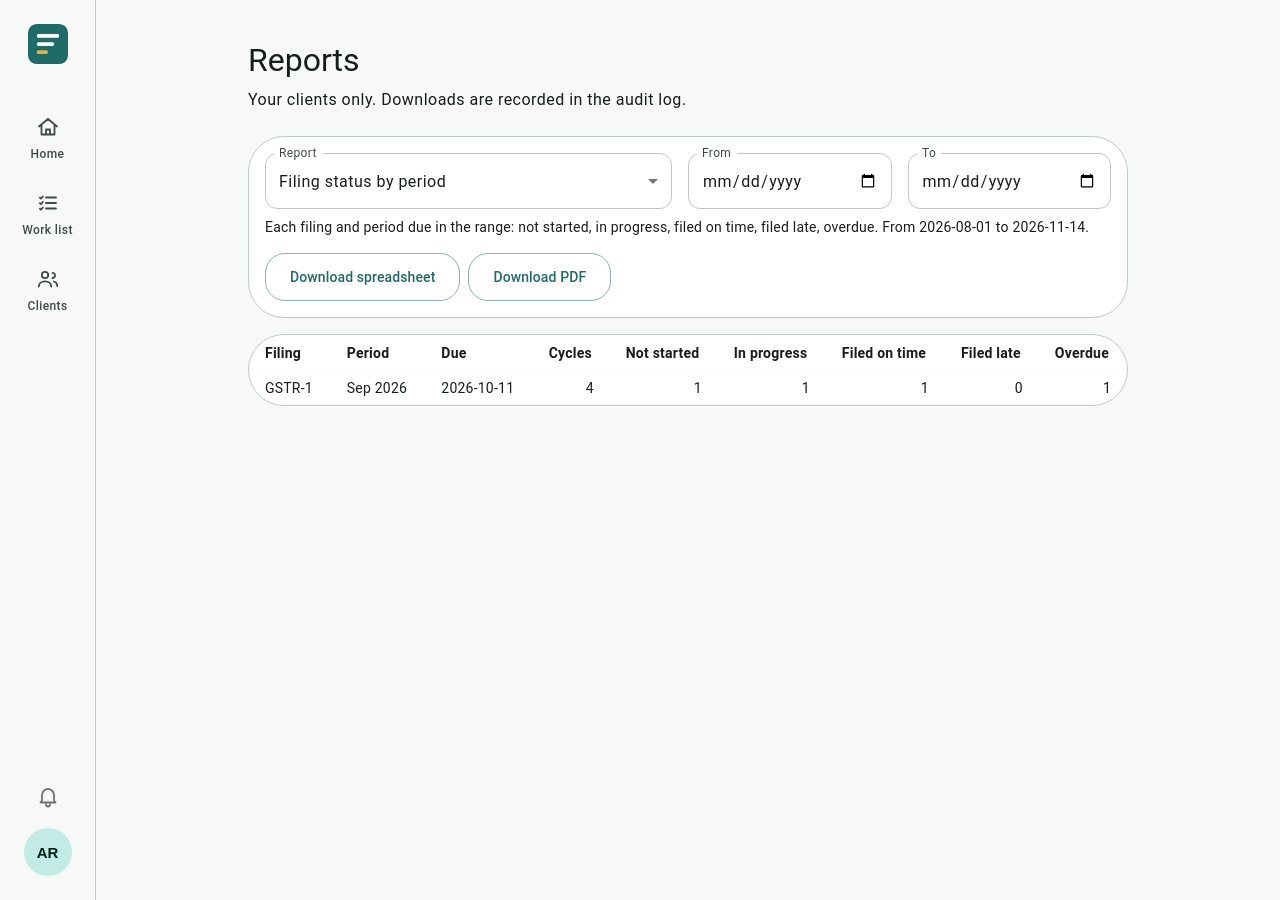
Scenario: Reports › tells Staff the reports cover their own clients
Expected: the text "Your clients only. Downloads are recorded in the audit log." is shown, [248,90,686,109]
Click the dropdown named "Report": (363, 181) [279,172,446,190]
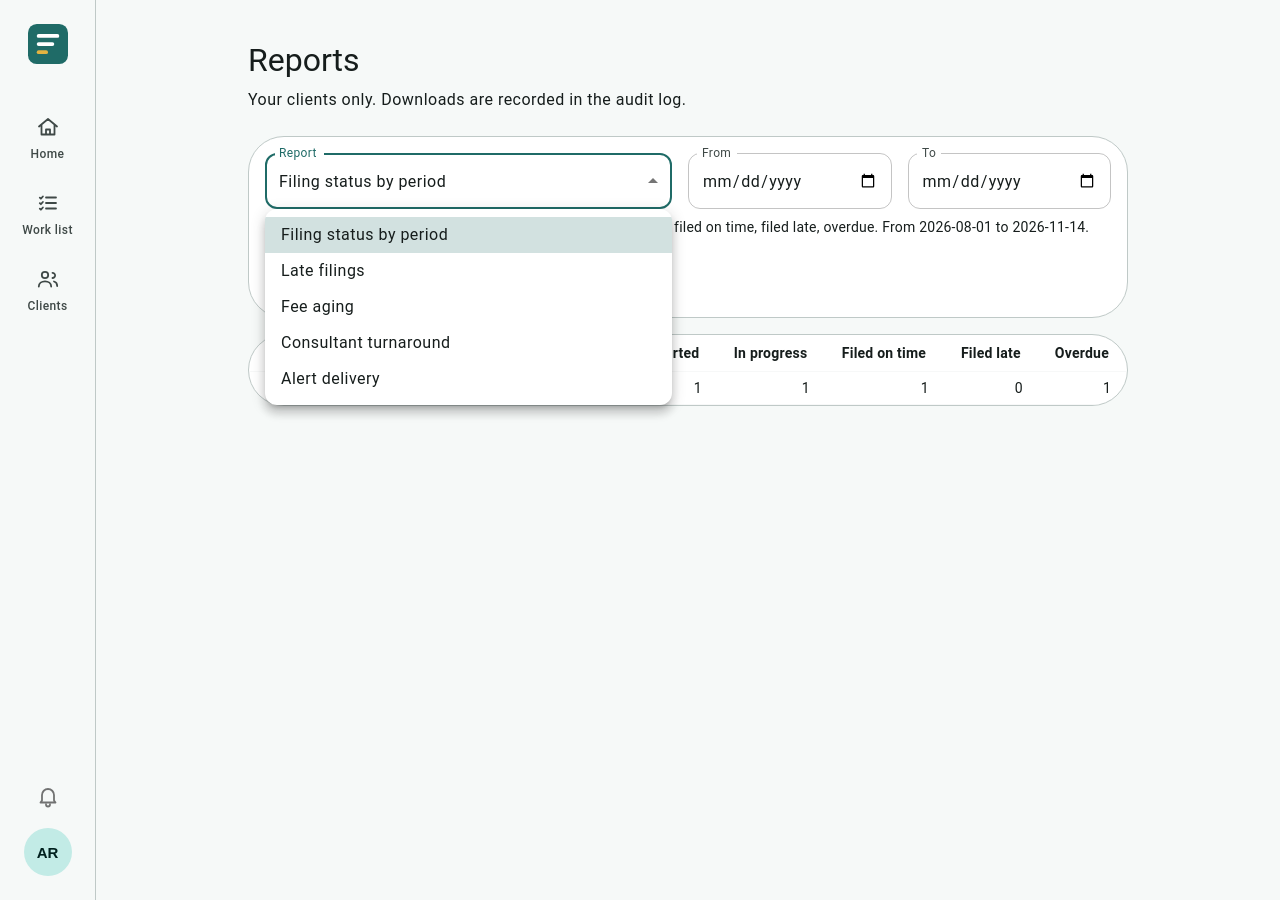
Click the option "Fee aging": (318, 306) [281,297,354,316]
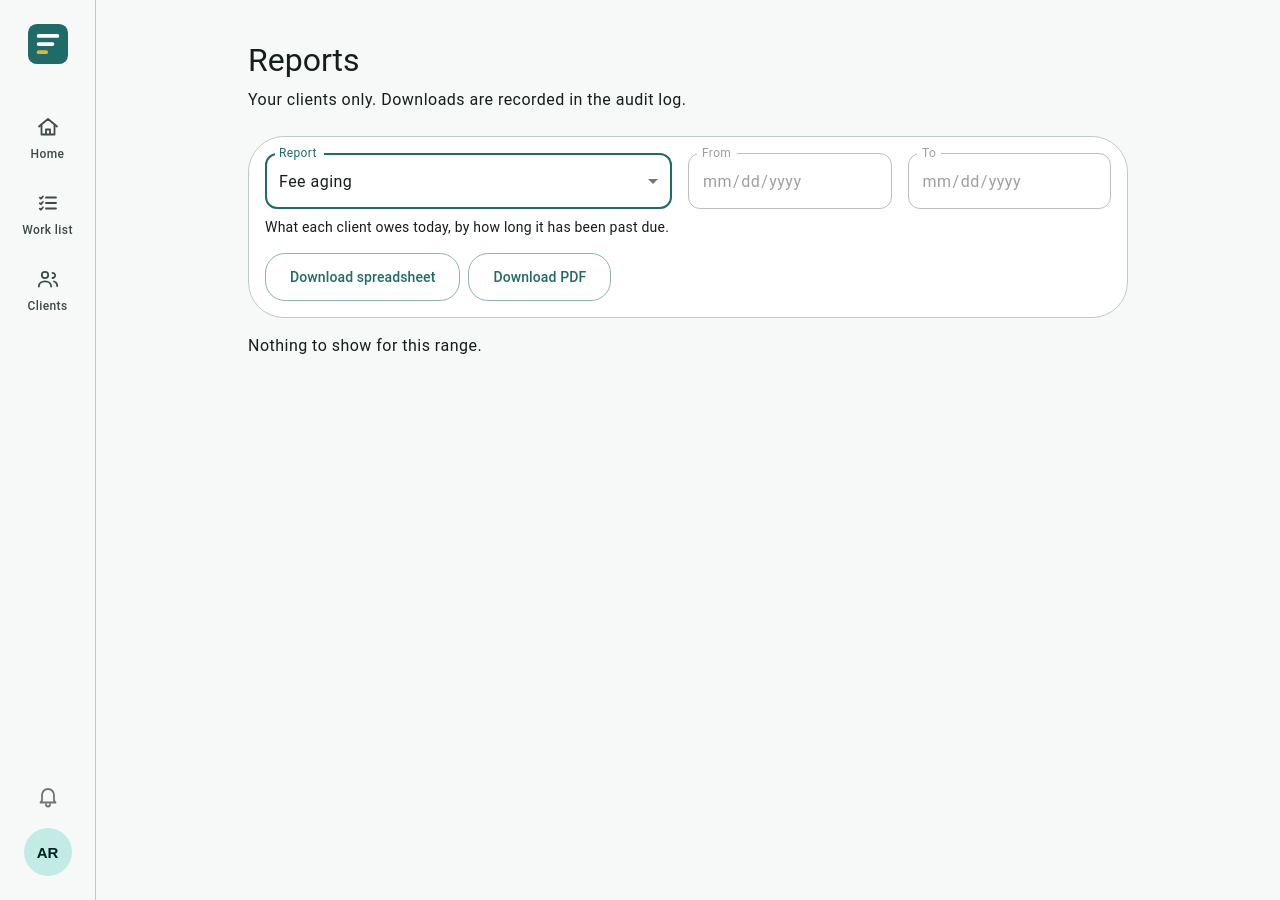
Expected: the text "Nothing to show for this range." is shown, [248,336,482,355]
Expected: the date field labelled "From" is disabled, [688,153,892,209]
